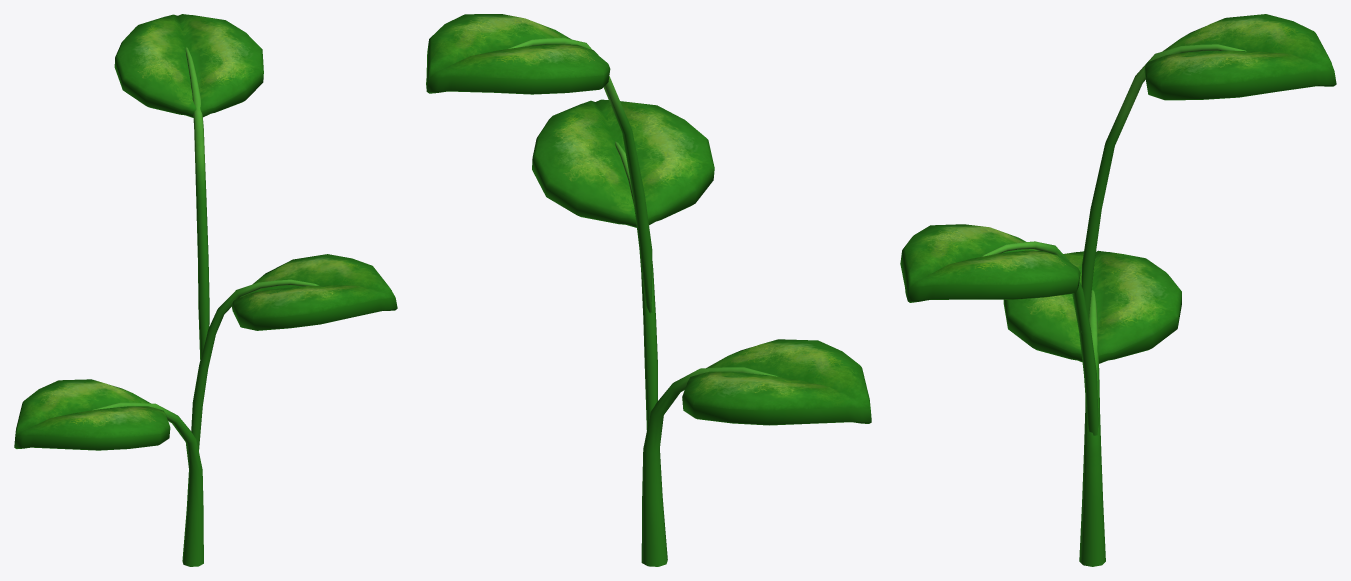
Rendered from Plantinha2.fbx.
The picture shows the model from 3 angles, left to right: view 1: azimuth 30°, elevation 25°; view 2: azimuth 150°, elevation 25°; view 3: azimuth 270°, elevation 25°; orthographic projection. The views are drawn at different scales.
Parts seen in each view (by area): view 1: Folhas2; view 2: Folhas2; view 3: Folhas2.
Part boxes in pixels (bbox=[...]): Folhas2: bbox=[14, 14, 397, 566]; Folhas2: bbox=[426, 14, 871, 566]; Folhas2: bbox=[900, 14, 1336, 566].
Bounding box in the file's own units: 279 × 394 × 280.
